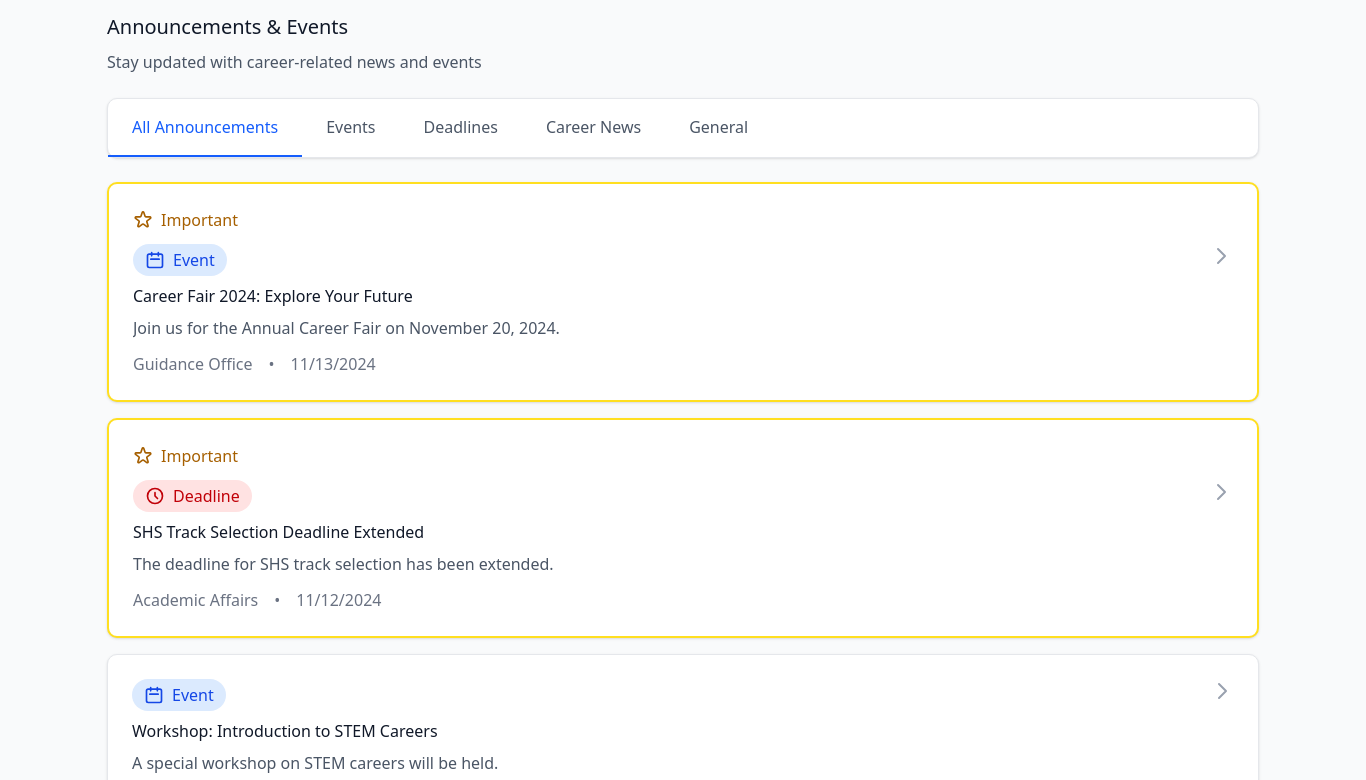
Test: Announcements page › TI-19: filters announcements by deadline
Expected: the heading "Career Fair 2024: Explore Your Future" is shown, x1=133 y1=285 x2=413 y2=307
Click the button "Deadlines".
click(461, 128)  # box x1=400 y1=99 x2=522 y2=157
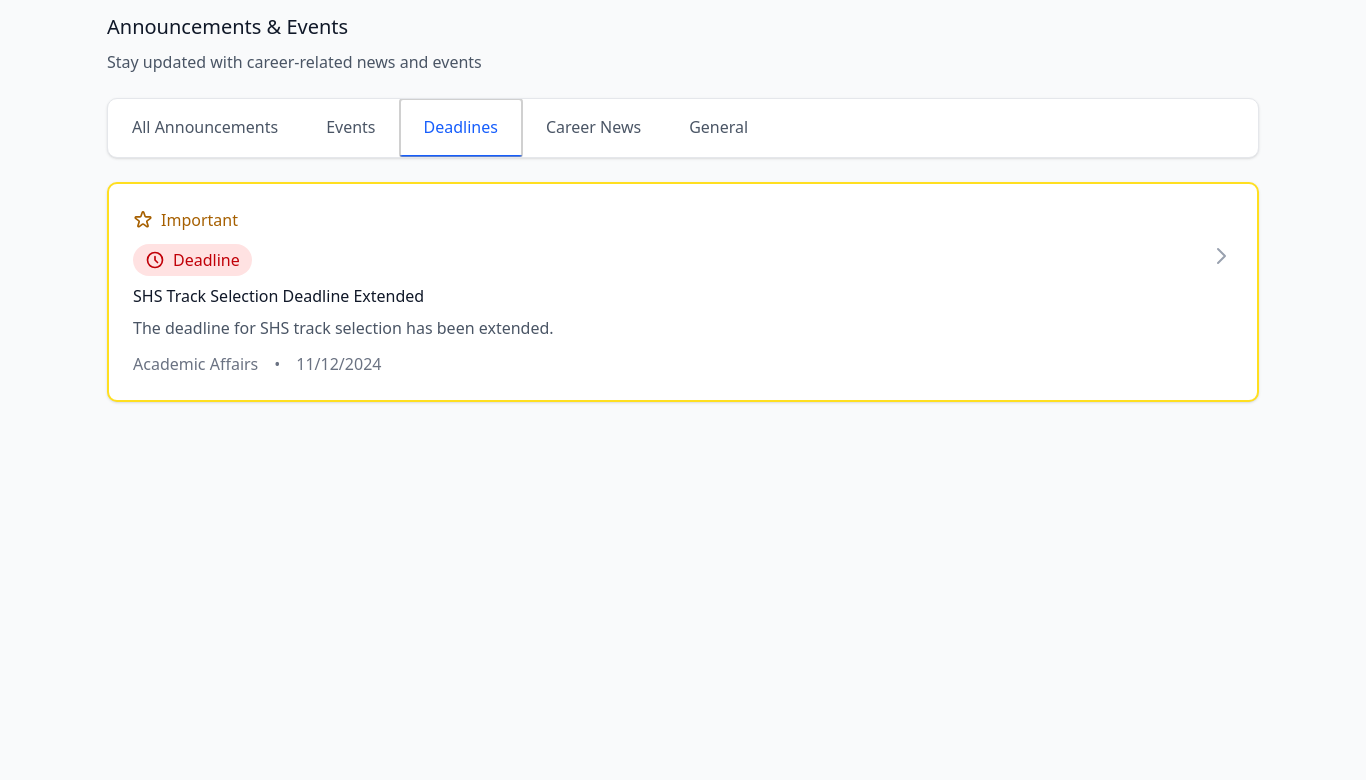
Expected: the heading "SHS Track Selection Deadline Extended" is shown, x1=133 y1=285 x2=424 y2=307
Now the button "Career Fair 2024: Explore Your Future" is gone
